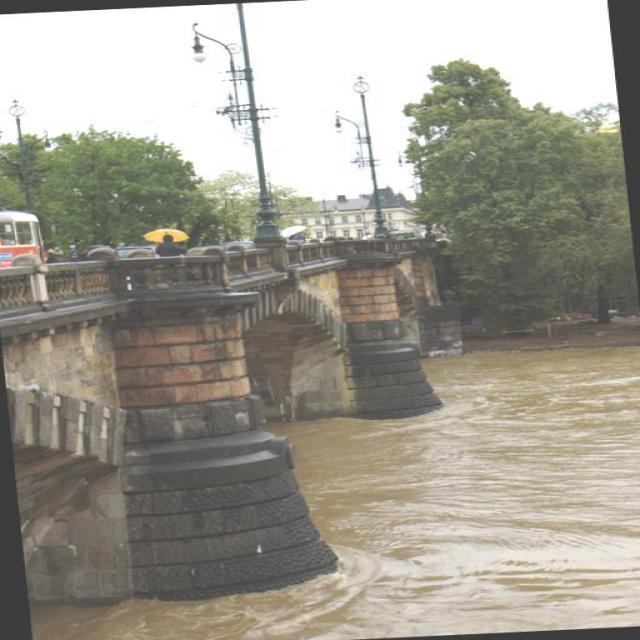flood: (284, 338, 639, 639)
